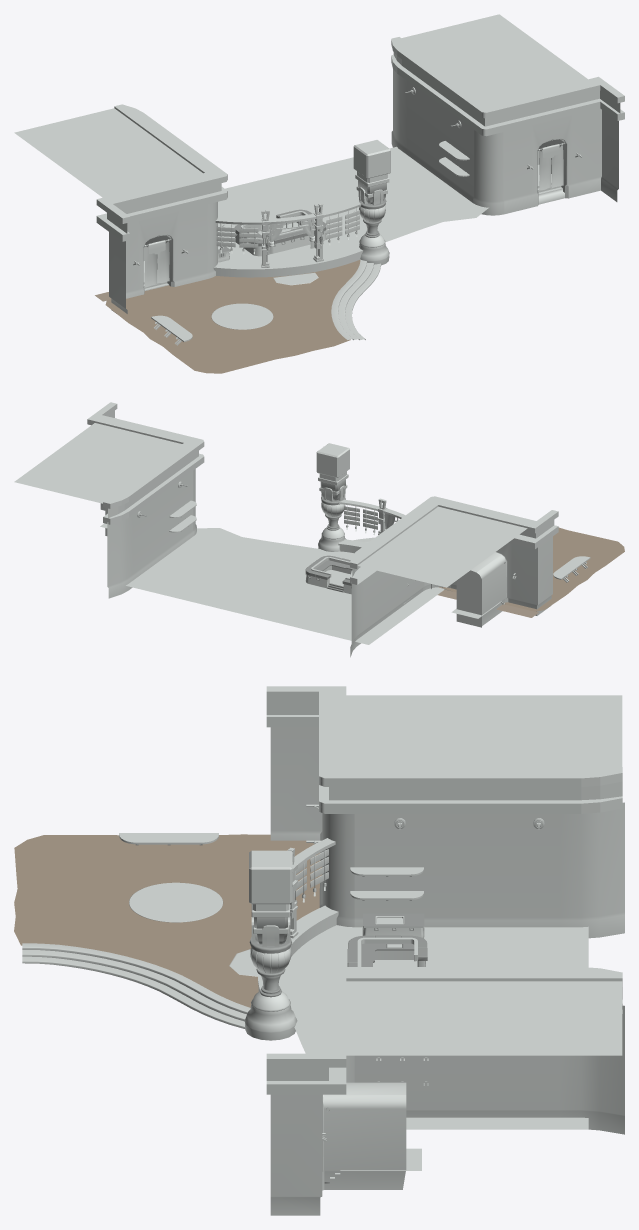
3 renders of one model, top to bottom at view 1: azimuth 30°, elevation 25°; view 2: azimuth 150°, elevation 25°; view 3: azimuth 270°, elevation 25°, orthographic. The views are drawn at different scales.
Visible parts, largest first — view 1: G:\FFXIV-MapTools\exports\y6f3\bg\ex5\02_ykt_y6\fld\y6f3\bgp (×14); view 2: G:\FFXIV-MapTools\exports\y6f3\bg\ex5\02_ykt_y6\fld\y6f3\bgp (×10); view 3: G:\FFXIV-MapTools\exports\y6f3\bg\ex5\02_ykt_y6\fld\y6f3\bgp (×10).
Boxes of the visible parts, box(x1,y1,x2,y2) form: G:\FFXIV-MapTools\exports\y6f3\bg\ex5\02_ykt_y6\fld\y6f3\bgp (×14): box(14, 14, 624, 373); G:\FFXIV-MapTools\exports\y6f3\bg\ex5\02_ykt_y6\fld\y6f3\bgp (×10): box(14, 402, 624, 657); G:\FFXIV-MapTools\exports\y6f3\bg\ex5\02_ykt_y6\fld\y6f3\bgp (×10): box(14, 686, 624, 1215).
Bounding box in the file's own units: 52.42 × 11.48 × 36.16.
